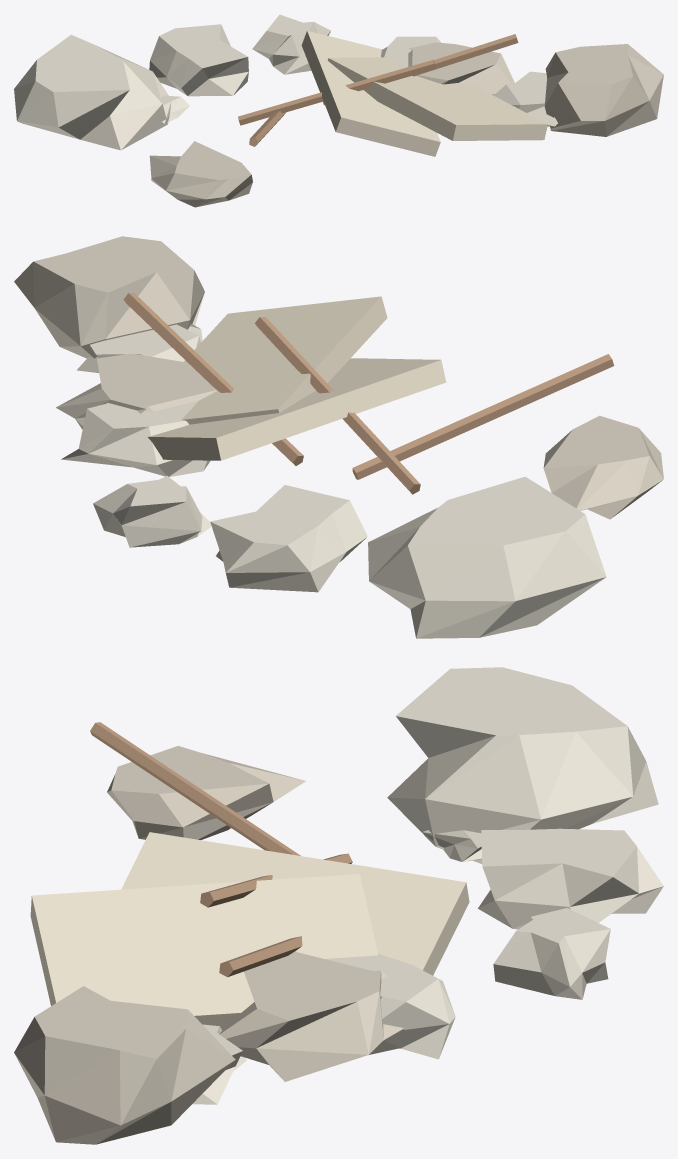
File: lab_debris_cluster_b.glb
3 renders of one model, top to bottom at view 1: azimuth 30°, elevation 25°; view 2: azimuth 150°, elevation 25°; view 3: azimuth 270°, elevation 25°, orthographic. The views are drawn at different scales.
Parts seen in each view (by area): view 1: lab_debris_cluster_b; view 2: lab_debris_cluster_b; view 3: lab_debris_cluster_b.
Boxes of the visible parts, box(x1,y1,x2,y2) form: lab_debris_cluster_b: box(14, 14, 663, 207); lab_debris_cluster_b: box(14, 236, 663, 638); lab_debris_cluster_b: box(14, 667, 663, 1144).
Size of the model in its own units: 2.2 by 0.2665 by 1.42.
